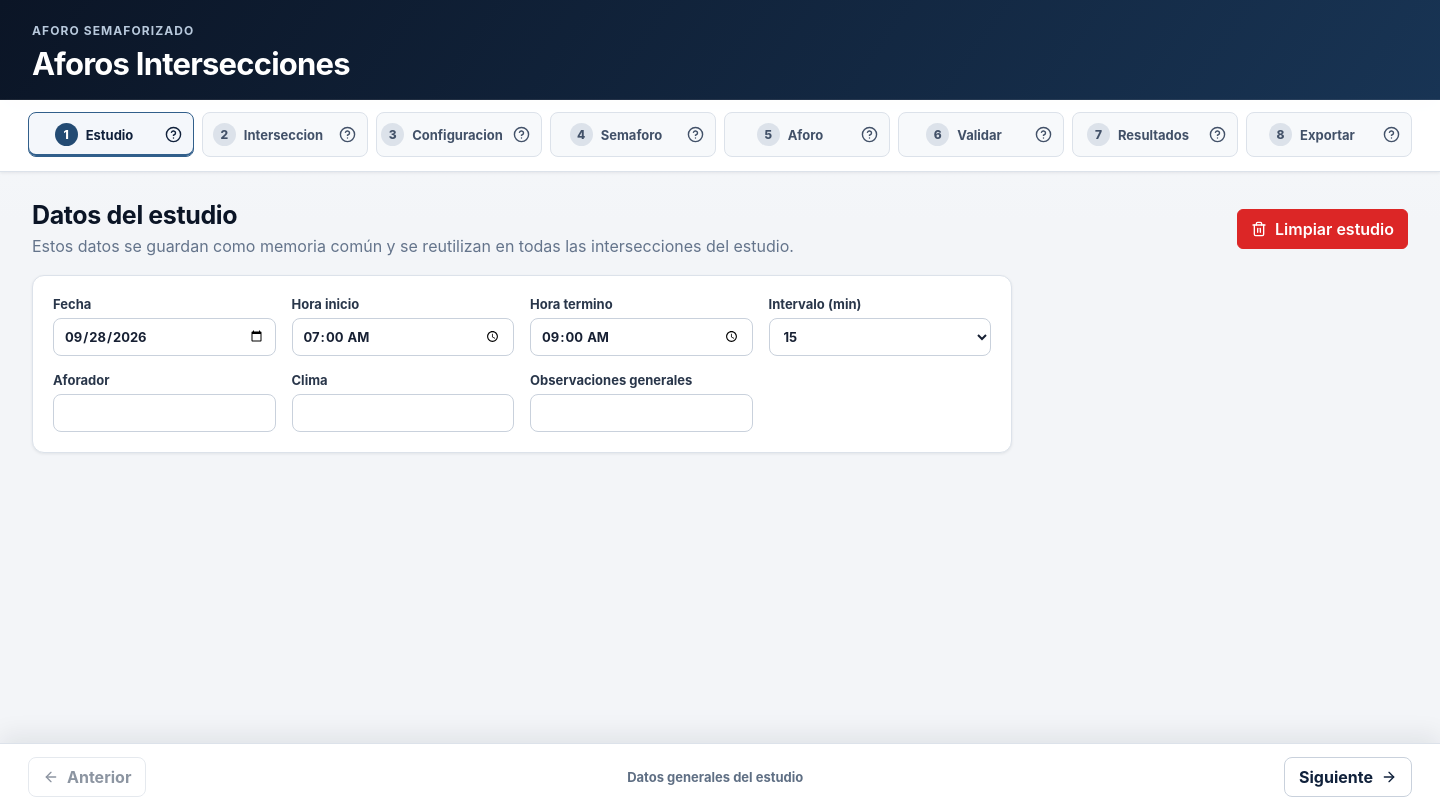
Test: WizardApp study configuration isolation › ignores a legacy lastConfiguration when creating a brand-new study
Click the button "2 Interseccion" at (268, 135), box [208, 118, 328, 151]
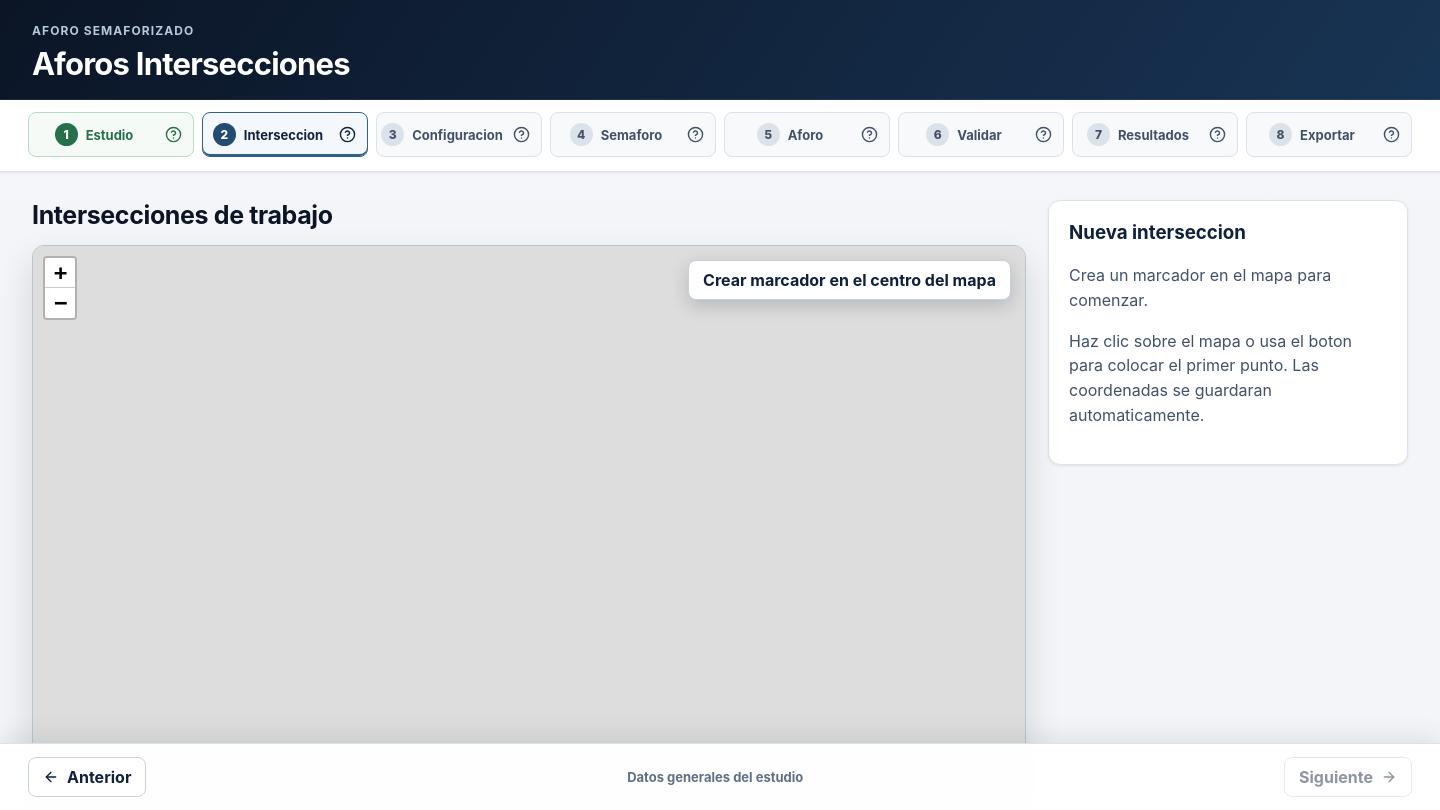
Click the button with aria-label "Crear una intersección en el centro visible del mapa" at (850, 280), box [688, 260, 1011, 300]
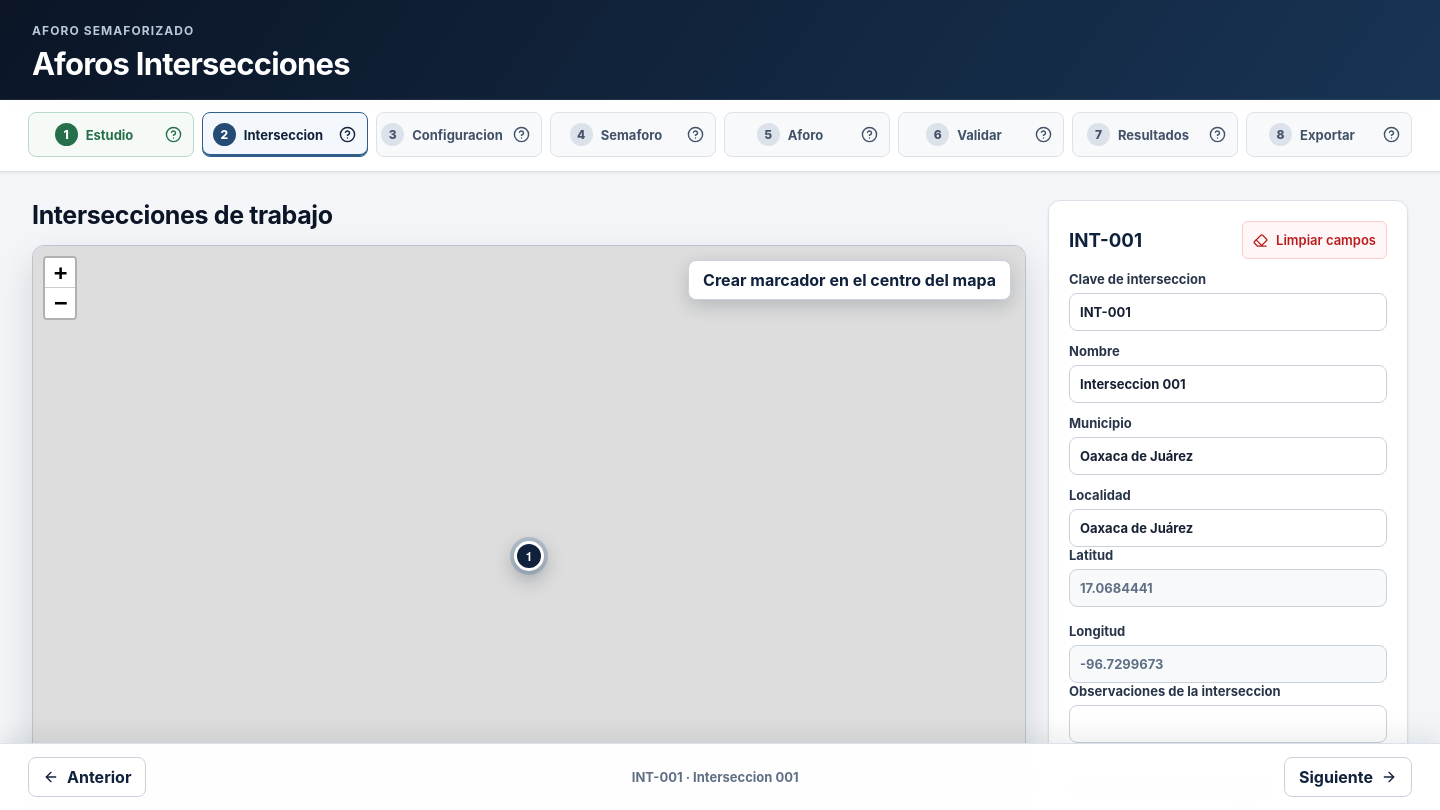
Click the button "3 Configuracion" at (442, 135), box [382, 118, 502, 151]
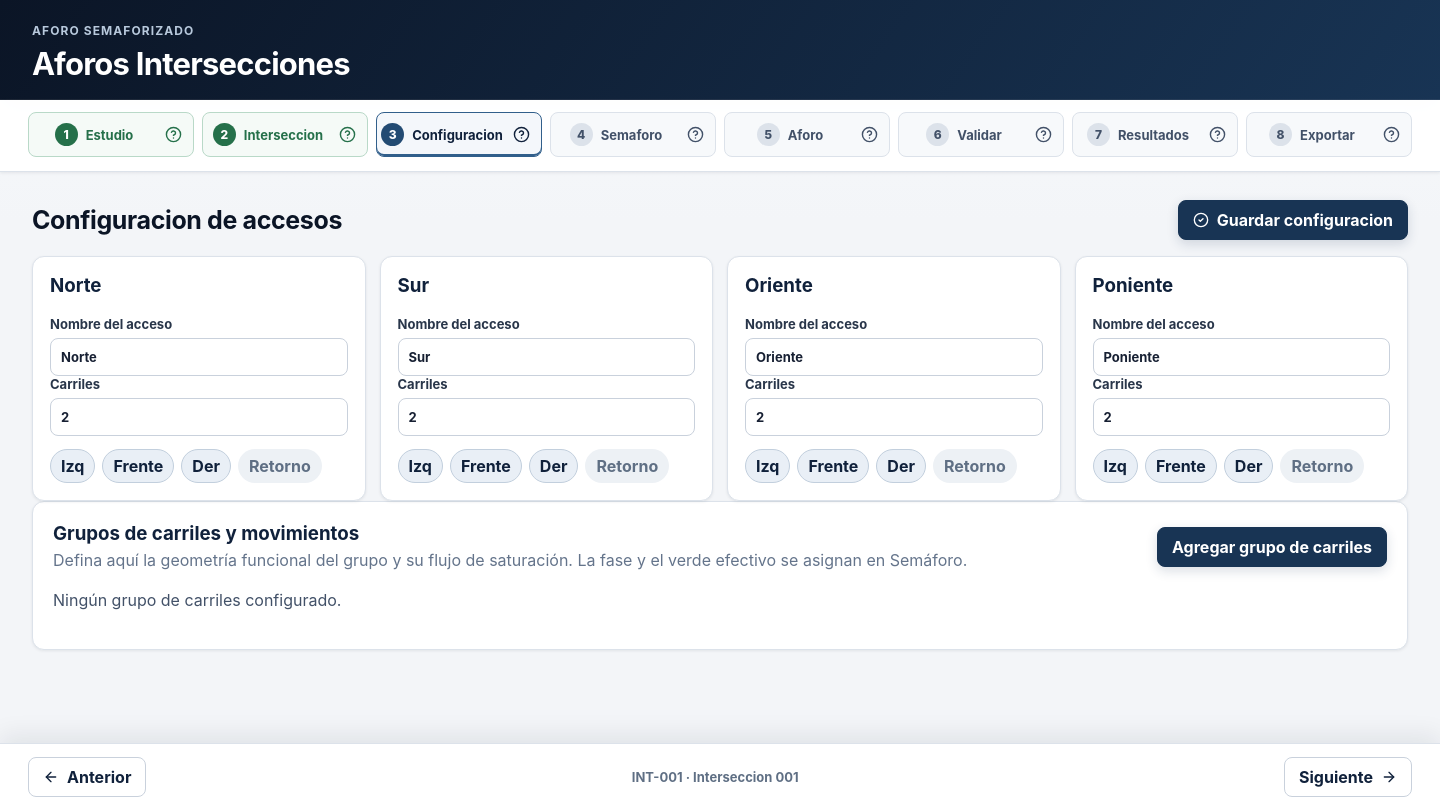
Result: the field showing "Norte" below "Norte" is shown at [50, 338, 348, 376]
